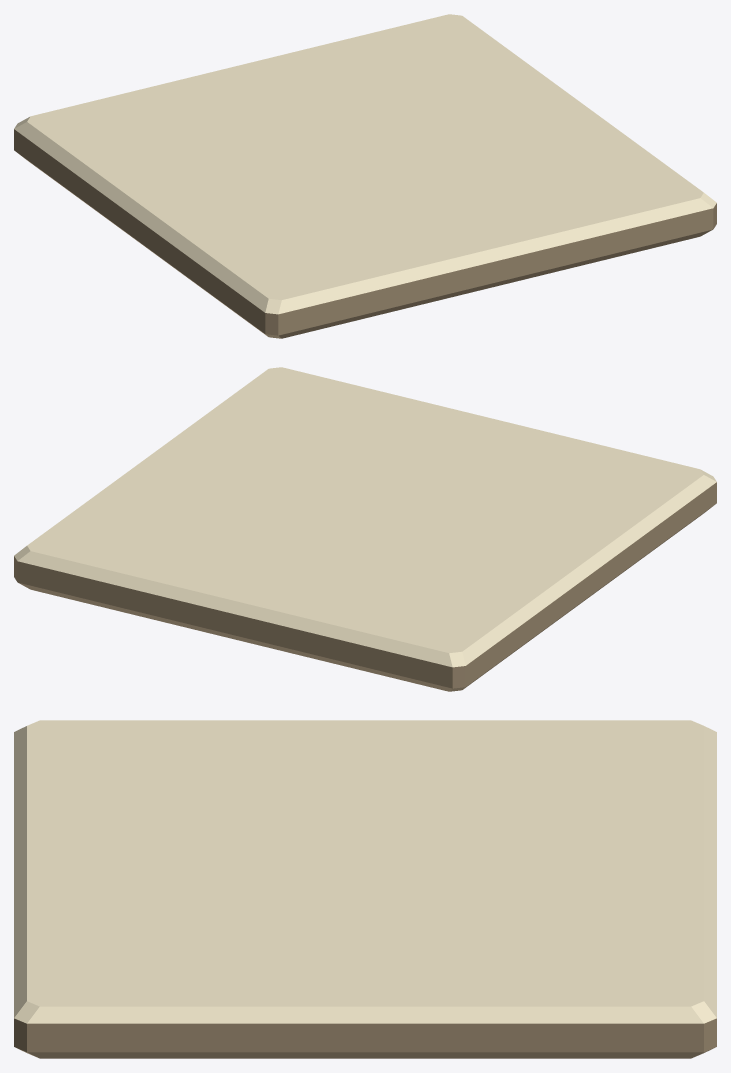
File: floor.gltf
3 renders of one model, top to bottom at view 1: azimuth 30°, elevation 25°; view 2: azimuth 150°, elevation 25°; view 3: azimuth 270°, elevation 25°, orthographic. The views are drawn at different scales.
Visible parts, largest first — view 1: floor; view 2: floor; view 3: floor.
Boxes of the visible parts, x1,y1,x2,y2 form: floor: [14, 14, 716, 338]; floor: [14, 367, 716, 691]; floor: [14, 720, 716, 1058].
Bounding box in the file's own units: 0.98 × 0.08 × 0.98.
Materials: 1 (1 with a texture image).
